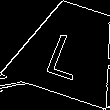L_N: (44, 21, 95, 79)
